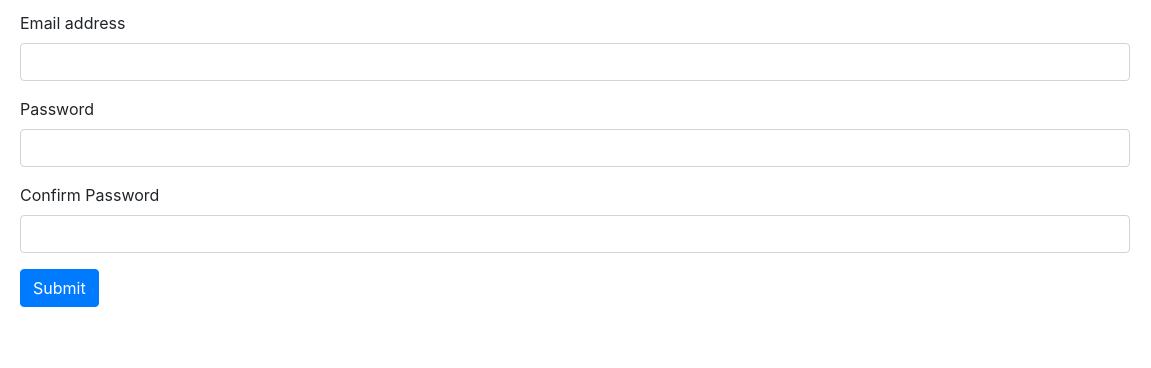
should show email error message on invalid email
Type "selenagmail.com" into the field labelled "Email address".
click(575, 62); type("selenagmail.com")  # box left=20, top=43, right=1130, bottom=81
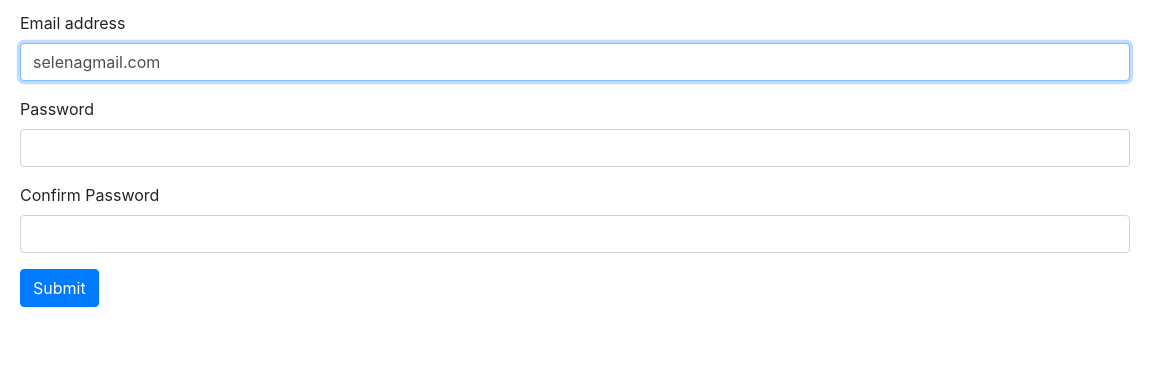
Click the button "Submit".
click(59, 288)  # box left=20, top=269, right=99, bottom=307
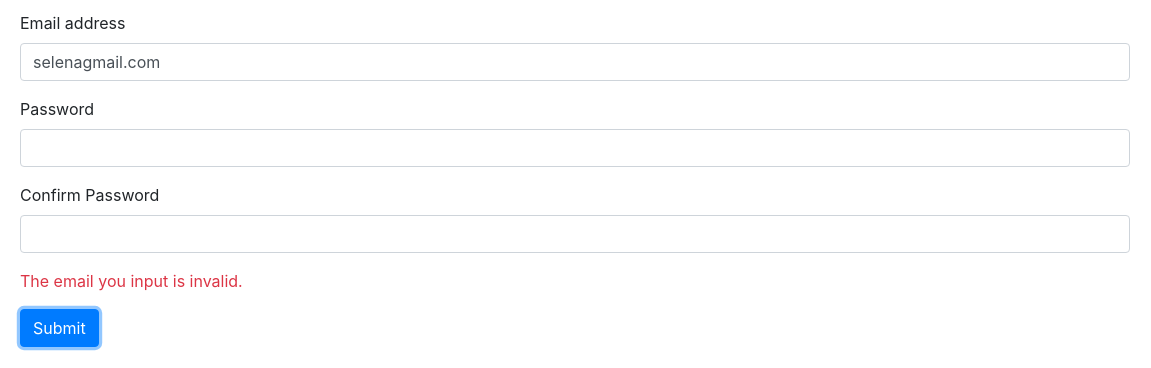
Now the text "The email you input is invalid." is shown, box left=20, top=271, right=243, bottom=291
